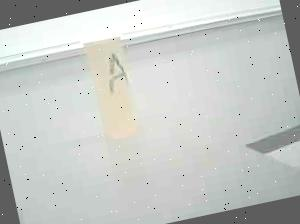Bottle A: (72, 16, 163, 154)
